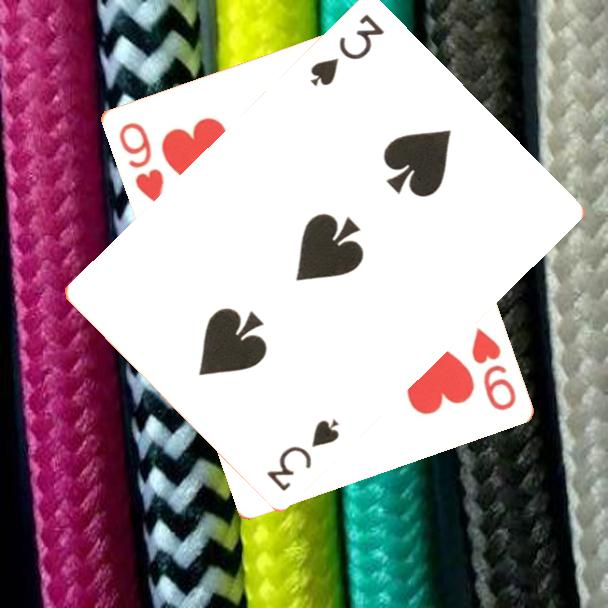h09: (114, 118, 167, 208), (467, 324, 519, 414)
s03: (306, 11, 388, 90), (263, 415, 343, 495)
